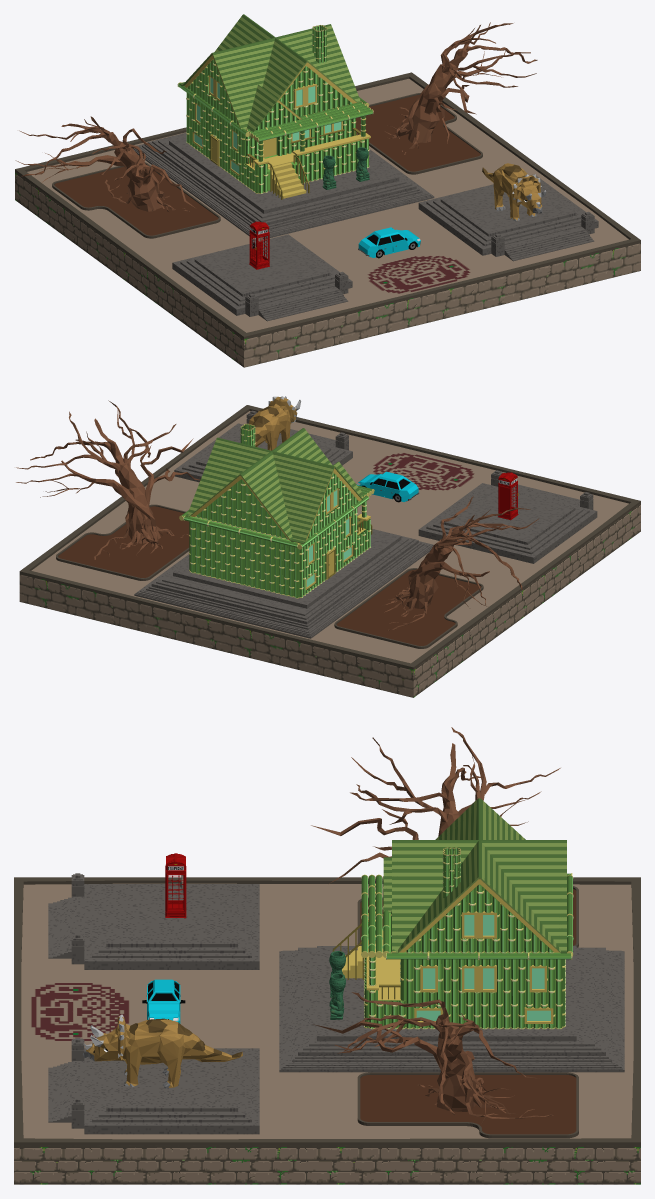
3 renders of one model, top to bottom at view 1: azimuth 30°, elevation 25°; view 2: azimuth 150°, elevation 25°; view 3: azimuth 270°, elevation 25°, orthographic. The views are drawn at different scales.
Parts seen in each view (by area): view 1: Cube.011, Cube.1327, ANIMAL_Triceratops, VEHICLES_CAR, OBJRANDOM_PHONEBOOTH; view 2: Cube.011, Cube.1327, ANIMAL_Triceratops, VEHICLES_CAR, OBJRANDOM_PHONEBOOTH; view 3: Cube.011, Cube.1327, ANIMAL_Triceratops, VEHICLES_CAR, OBJRANDOM_PHONEBOOTH.
Boxes of the visible parts, x1,y1,x2,y2 form: Cube.011: [15, 22, 640, 367]; Cube.1327: [177, 14, 373, 199]; ANIMAL_Triceratops: [482, 163, 546, 221]; VEHICLES_CAR: [358, 227, 420, 258]; OBJRANDOM_PHONEBOOTH: [249, 221, 269, 269]; Cube.011: [16, 400, 640, 697]; Cube.1327: [179, 423, 374, 598]; ANIMAL_Triceratops: [249, 396, 301, 450]; VEHICLES_CAR: [356, 471, 419, 502]; OBJRANDOM_PHONEBOOTH: [498, 472, 518, 520]; Cube.011: [14, 727, 640, 1184]; Cube.1327: [332, 798, 573, 1029]; ANIMAL_Triceratops: [83, 1014, 242, 1088]; VEHICLES_CAR: [142, 979, 185, 1023]; OBJRANDOM_PHONEBOOTH: [165, 853, 186, 918].
Size of the model in its own units: 5099 by 1646 by 4000.
43 materials, 6 textured.
